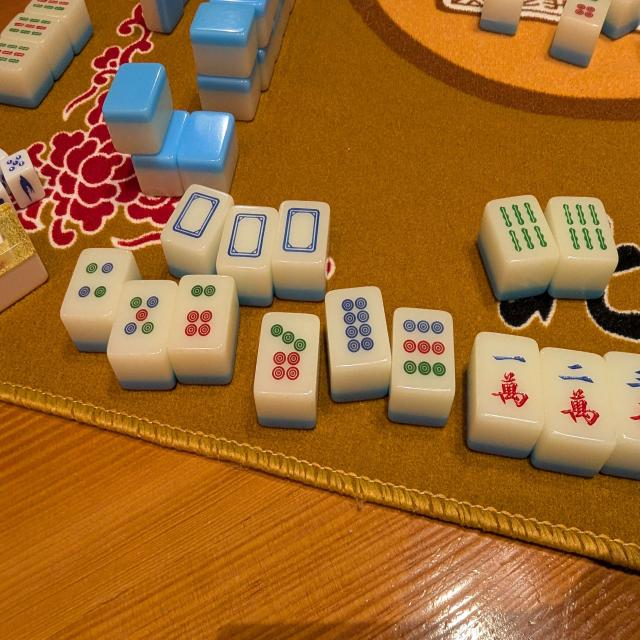bai: (166, 185, 231, 251), (219, 208, 276, 268), (275, 201, 331, 261)
m1: (478, 338, 546, 426)
m2: (541, 353, 616, 440)
m3: (608, 354, 640, 445)
s6: (490, 197, 559, 261), (553, 199, 618, 259)
s9: (1, 12, 56, 44), (0, 40, 35, 72), (25, 0, 79, 17)
t4: (61, 249, 132, 320)
t5: (108, 281, 178, 355)
t6: (169, 277, 235, 350)
t7: (255, 313, 319, 396)
t8: (326, 288, 390, 368)
t9: (392, 310, 454, 391)
